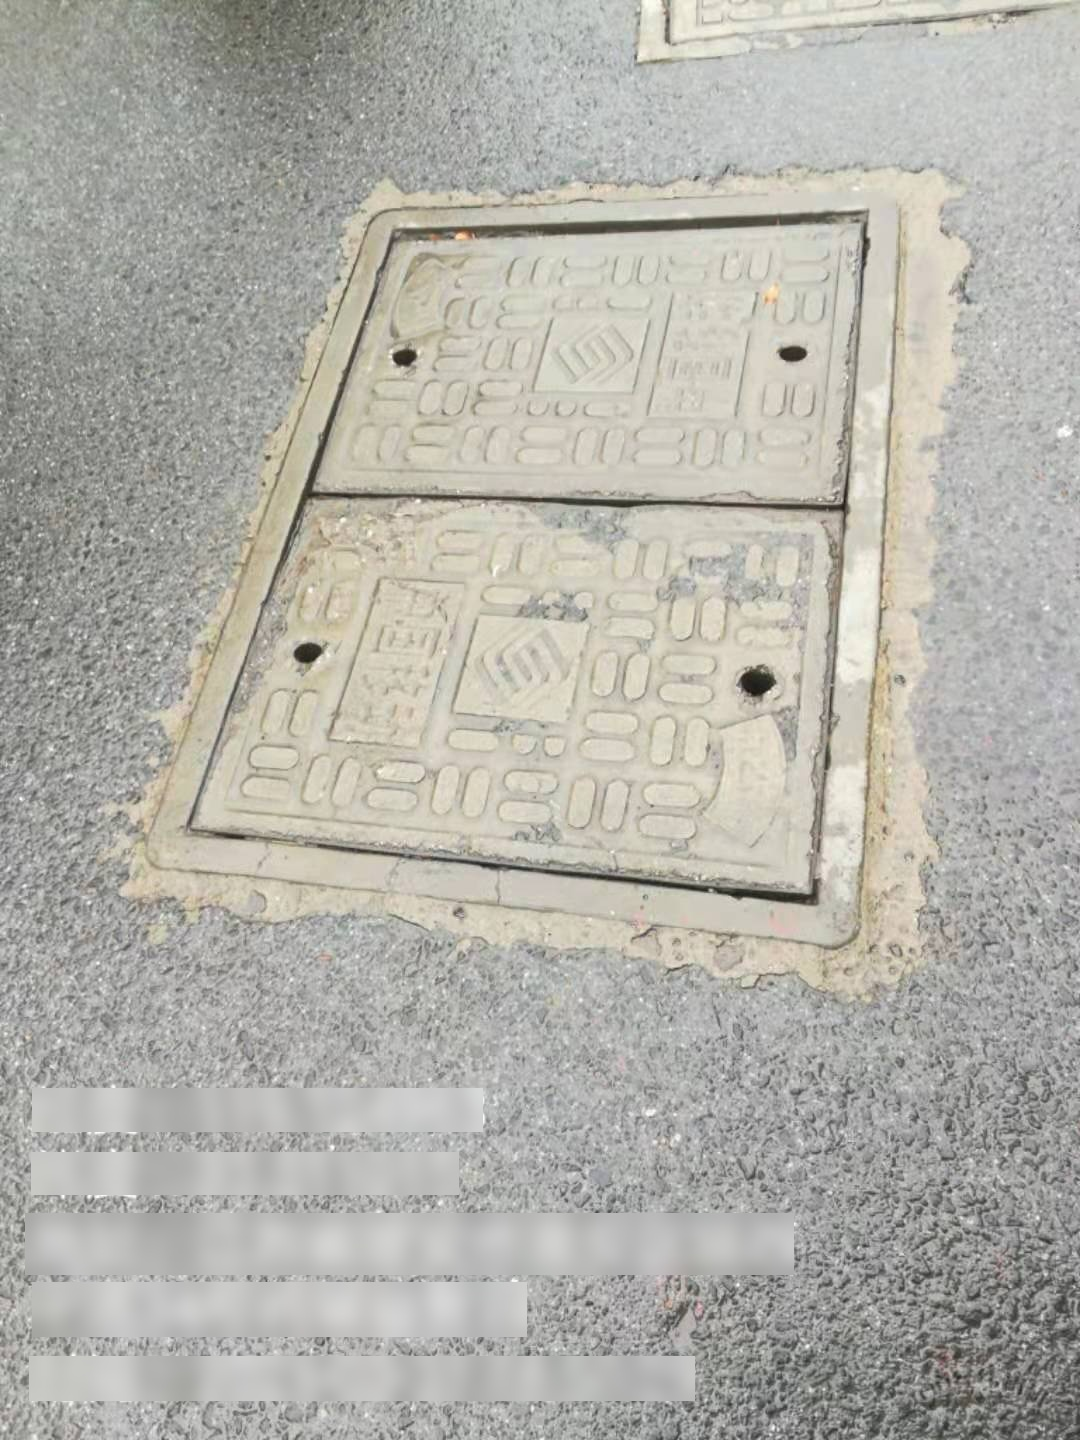good: (147, 193, 898, 952)
